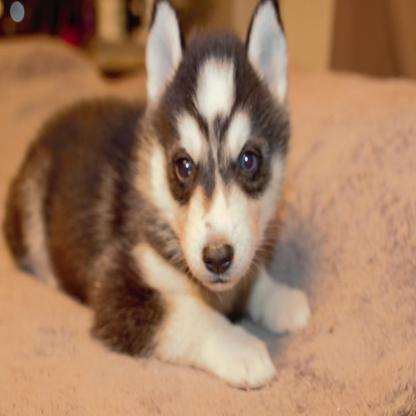husky: (1, 0, 314, 389)
